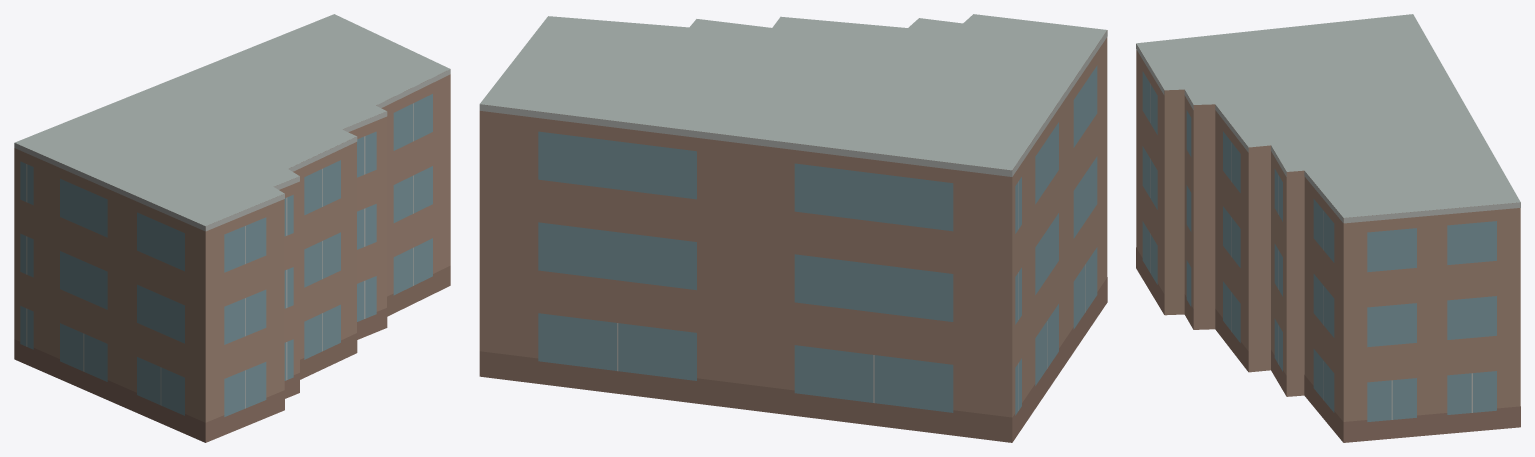
File: survey-upis-32503951.glb
3 views of the same model, side by side, from view 1: azimuth 30°, elevation 25°; view 2: azimuth 150°, elevation 25°; view 3: azimuth 270°, elevation 25° (orthographic). The views are drawn at different scales.
Parts seen in each view (by area): view 1: survey-upis-32503951.tmp; view 2: survey-upis-32503951.tmp; view 3: survey-upis-32503951.tmp.
Part boxes in pixels (left/top/right/bottom): survey-upis-32503951.tmp: left=14, top=14, right=450, bottom=442; survey-upis-32503951.tmp: left=479, top=14, right=1107, bottom=442; survey-upis-32503951.tmp: left=1136, top=14, right=1520, bottom=442.
Bounding box in the file's own units: 19.46 × 10 × 15.51.
